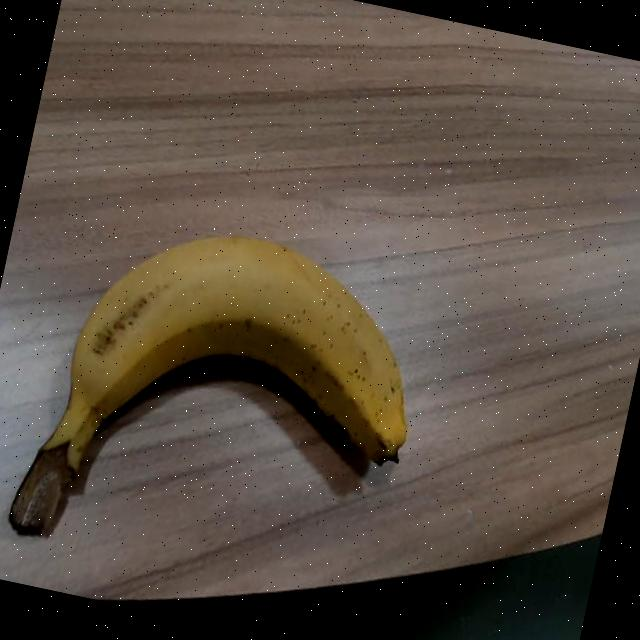Ripe: (0, 192, 450, 630)
